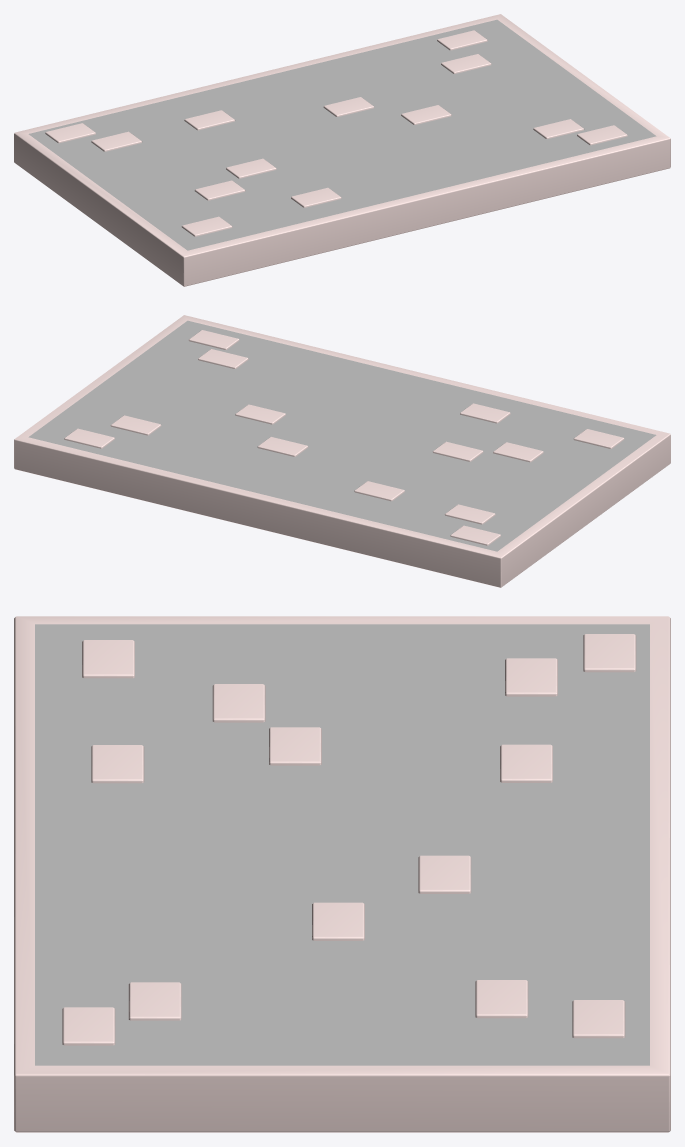
File: Public_17_Base_1.glb
3 views of the same model, one above another, from view 1: azimuth 30°, elevation 25°; view 2: azimuth 150°, elevation 25°; view 3: azimuth 270°, elevation 25° (orthographic). The views are drawn at different scales.
Parts seen in each view (by area): view 1: Public_17_Base_1; view 2: Public_17_Base_1; view 3: Public_17_Base_1.
Boxes of the visible parts, x1,y1,x2,y2 form: Public_17_Base_1: (14,14,670,286); Public_17_Base_1: (14,315,670,587); Public_17_Base_1: (14,616,670,1132).
Bounding box in the file's own units: 21.09 × 1.34 × 12.75.
Materials: 1 (1 with a texture image).
